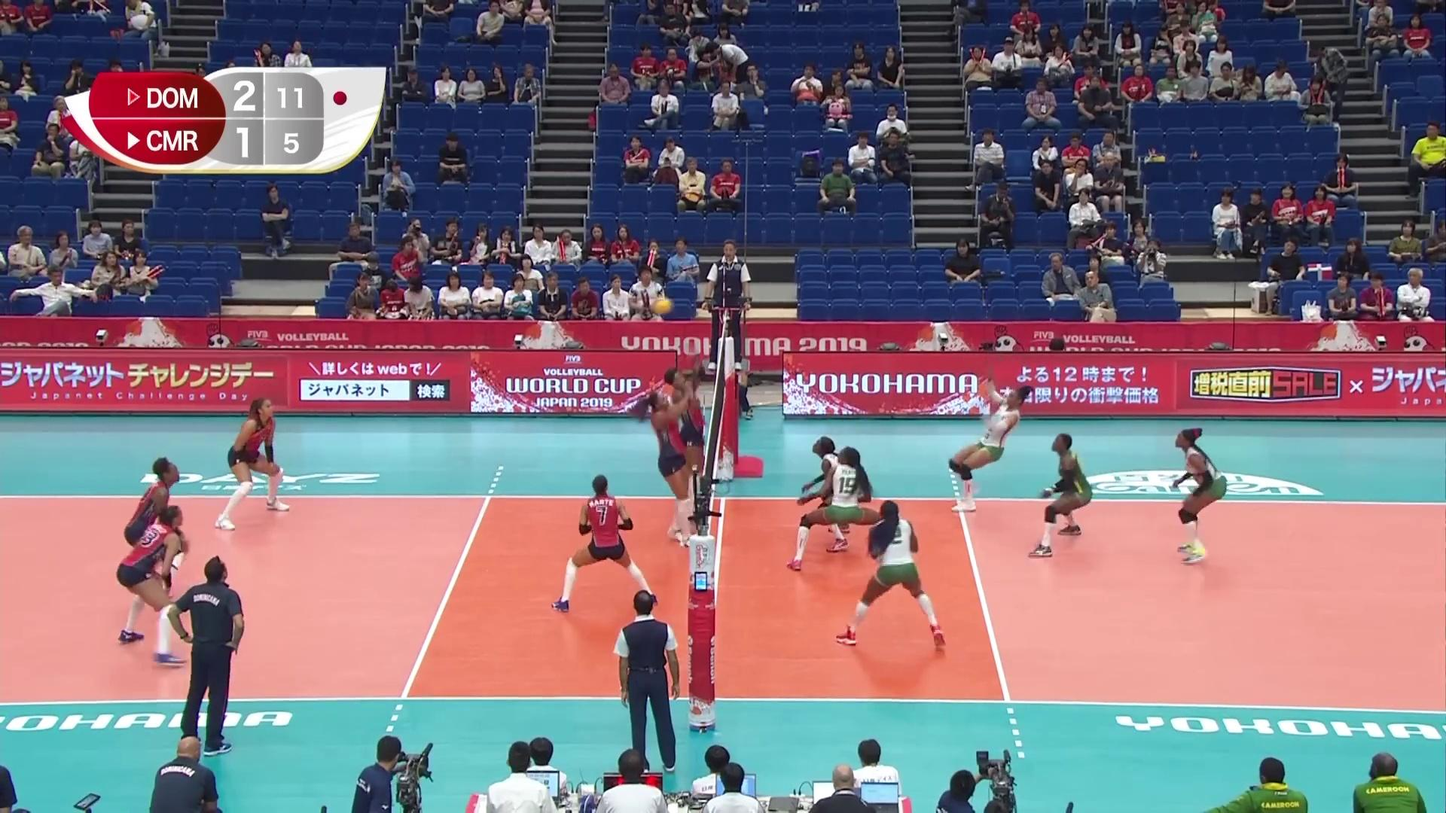player: (837, 501, 944, 654), (557, 478, 661, 613), (790, 447, 901, 572), (116, 508, 187, 667), (947, 386, 1030, 515), (124, 458, 188, 603), (218, 400, 287, 527), (647, 388, 700, 548), (1172, 428, 1233, 564), (1031, 434, 1094, 555), (802, 437, 856, 550), (668, 360, 704, 525)
refree: (617, 588, 681, 776), (709, 239, 749, 373)
